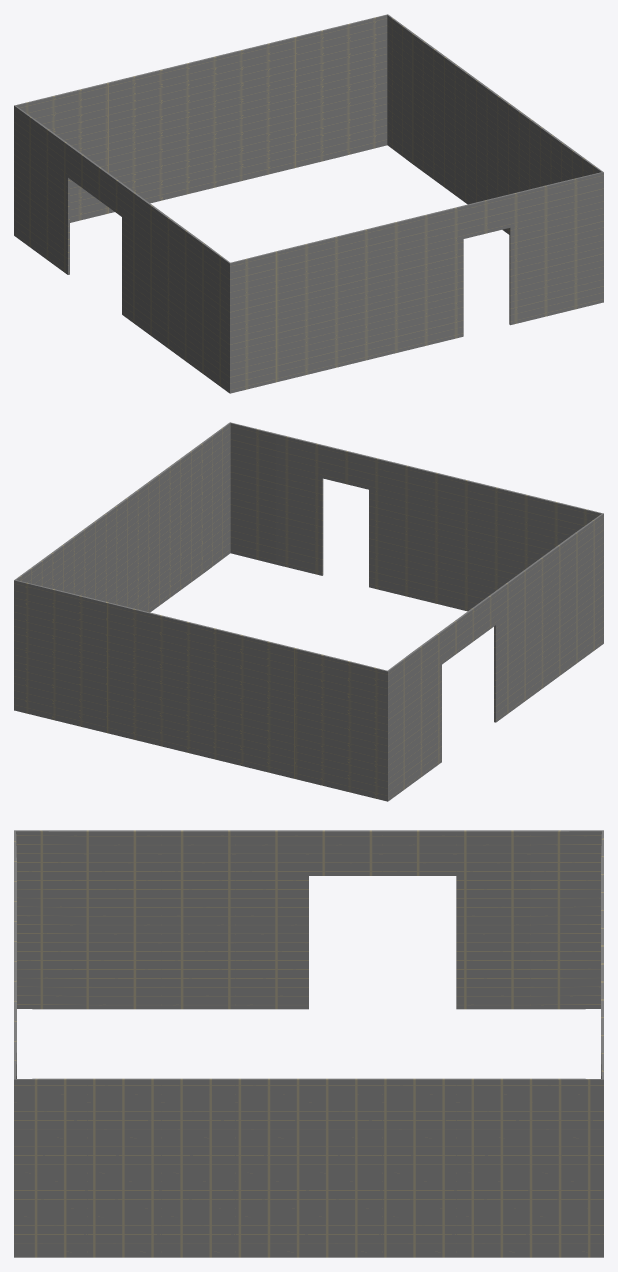
File: lvl2-main-area.fbx
3 renders of one model, top to bottom at view 1: azimuth 30°, elevation 25°; view 2: azimuth 150°, elevation 25°; view 3: azimuth 270°, elevation 25°, orthographic. The views are drawn at different scales.
Parts seen in each view (by area): view 1: Cube; view 2: Cube; view 3: Cube.
Part boxes in pixels (left/top/right/bottom): Cube: left=14, top=14, right=603, bottom=393; Cube: left=14, top=422, right=603, bottom=801; Cube: left=14, top=830, right=603, bottom=1257.
Bounding box in the file's own units: 200 × 66.48 × 200.
